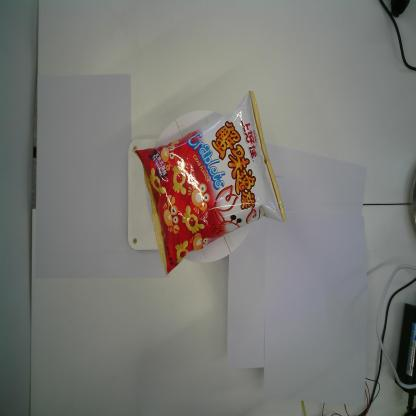Puffed Food: (133, 90, 286, 276)
